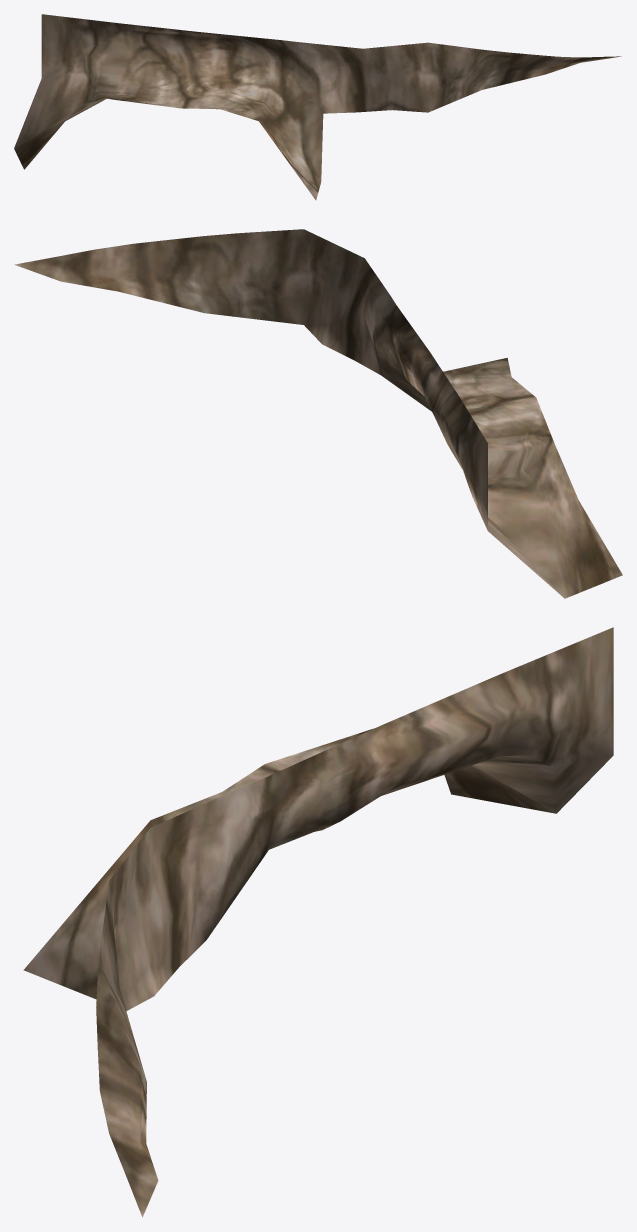
Rendered from EKH_BARRELROOM_PS_JA1_OBJECT01.fbx.
The picture shows the model from 3 angles, top to bottom: view 1: azimuth 30°, elevation 25°; view 2: azimuth 150°, elevation 25°; view 3: azimuth 270°, elevation 25°; orthographic projection. The views are drawn at different scales.
Visible parts, largest first — view 1: EKH_BARRELROOM_PS_JA1_OBJECT01; view 2: EKH_BARRELROOM_PS_JA1_OBJECT01; view 3: EKH_BARRELROOM_PS_JA1_OBJECT01.
Part boxes in pixels (x1,y1,x2,y2): EKH_BARRELROOM_PS_JA1_OBJECT01: (14,14,621,200); EKH_BARRELROOM_PS_JA1_OBJECT01: (14,229,622,598); EKH_BARRELROOM_PS_JA1_OBJECT01: (23,627,613,1217).
Size of the model in its own units: 123729 by 25951 by 60622.
1 material, 1 textured.
